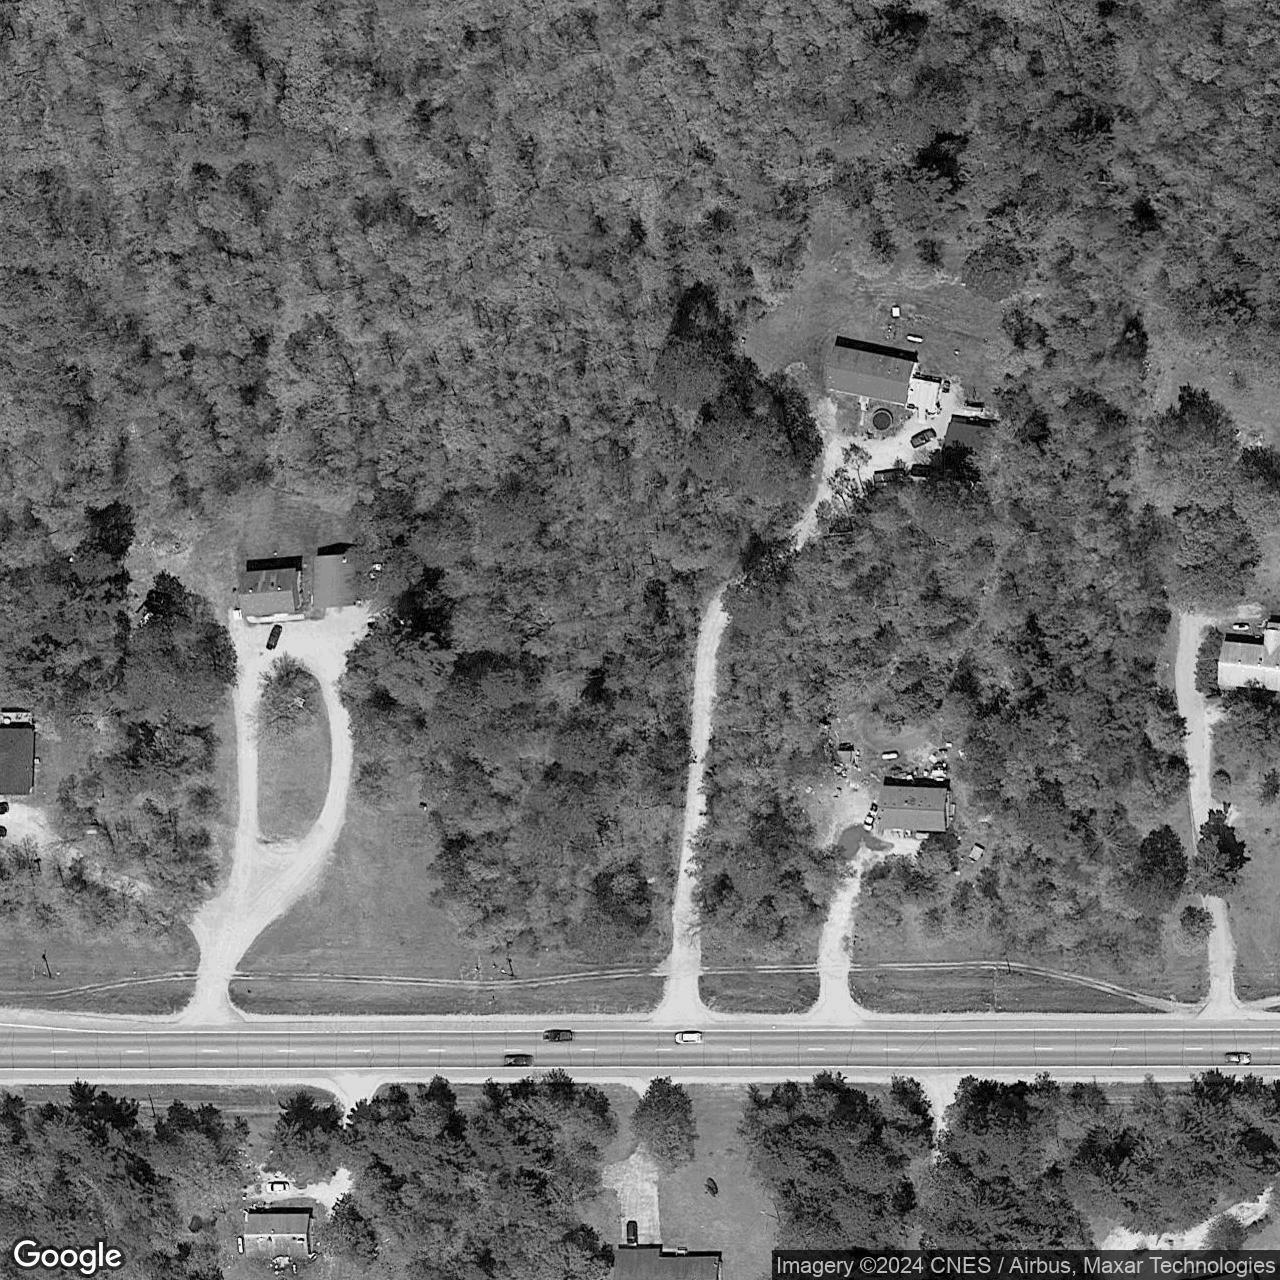Garage: (937, 418, 999, 486), (312, 552, 358, 611)
House: (824, 345, 920, 407), (1216, 627, 1280, 694), (876, 784, 952, 832), (243, 1212, 314, 1260), (611, 1248, 722, 1279), (238, 568, 301, 618)
Propane: (905, 332, 924, 345), (880, 749, 899, 762), (1230, 621, 1251, 631), (236, 1234, 245, 1254)
